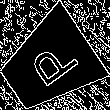P_SW: (19, 34, 79, 94)
